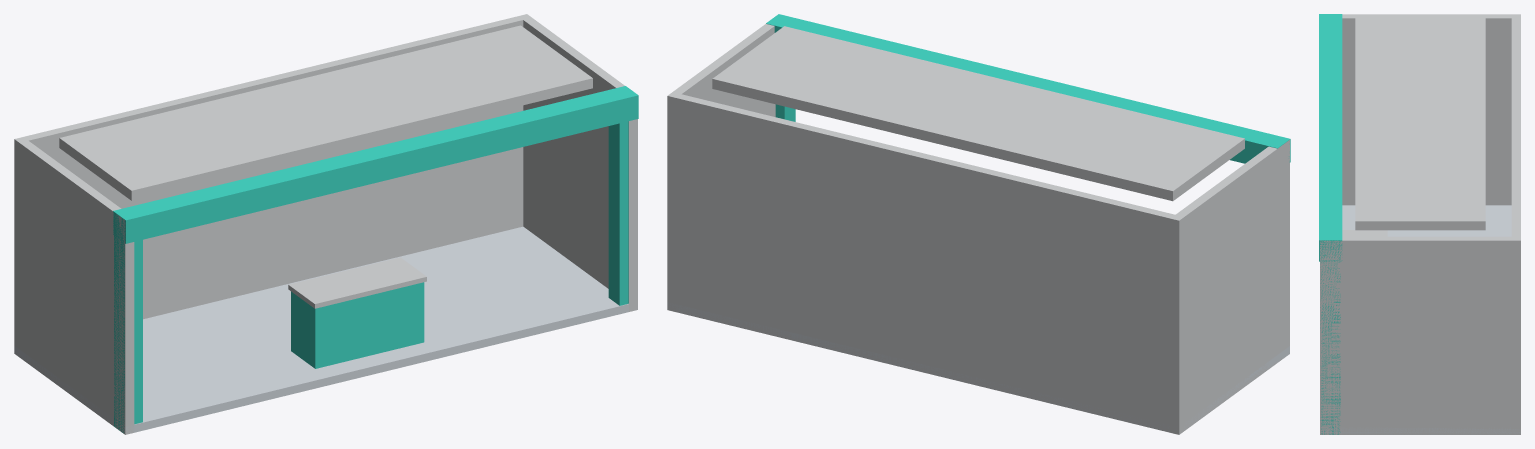
The picture shows the model from 3 angles, left to right: view 1: azimuth 30°, elevation 25°; view 2: azimuth 150°, elevation 25°; view 3: azimuth 270°, elevation 25°; orthographic projection. The views are drawn at different scales.
Visible parts, largest first — view 1: Exhibition Booth Concept; view 2: Exhibition Booth Concept; view 3: Exhibition Booth Concept.
Part boxes in pixels (x1,y1,x2,y2): Exhibition Booth Concept: [14, 14, 638, 434]; Exhibition Booth Concept: [667, 14, 1290, 434]; Exhibition Booth Concept: [1319, 14, 1520, 434].
Bounding box in the file's own units: 8 × 3.34 × 3.01.
